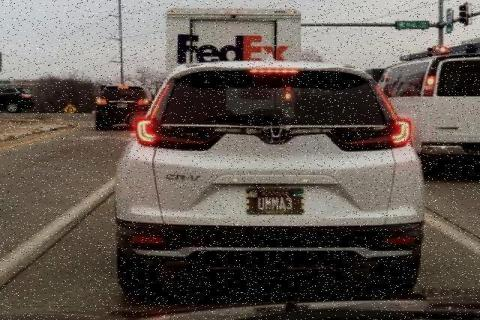LicensePlate: (244, 187, 303, 214)
